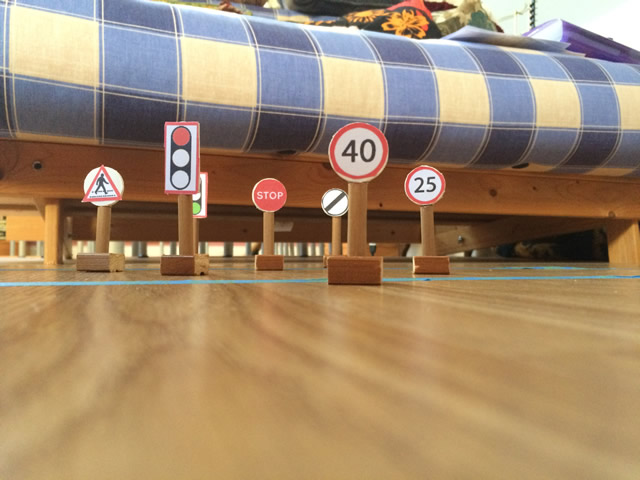Full Speed: (317, 188, 349, 219)
Person Crossing: (83, 164, 125, 207)
Red Traffic Light: (162, 121, 201, 197)
Speed Limit 25: (404, 164, 447, 206)
Speed Limit 40: (326, 120, 389, 181)
Stop Sign: (251, 176, 288, 213)
